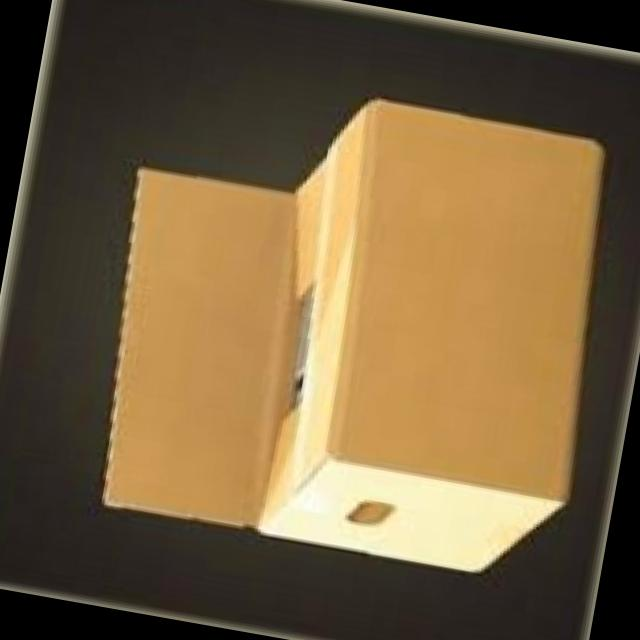cardboard paper: (102, 98, 602, 568)
